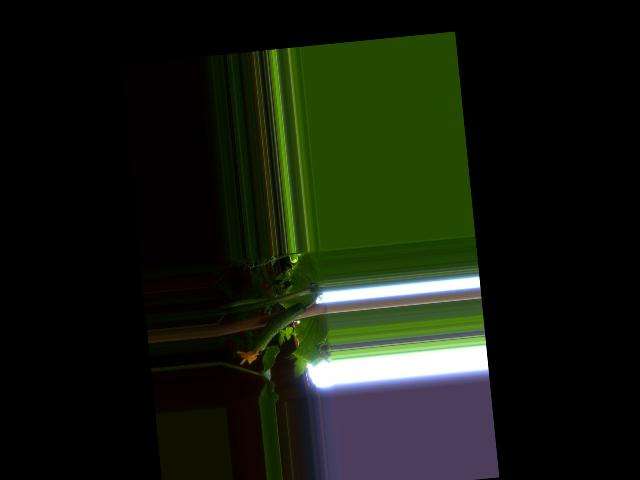cucumber: (232, 302, 310, 366)
